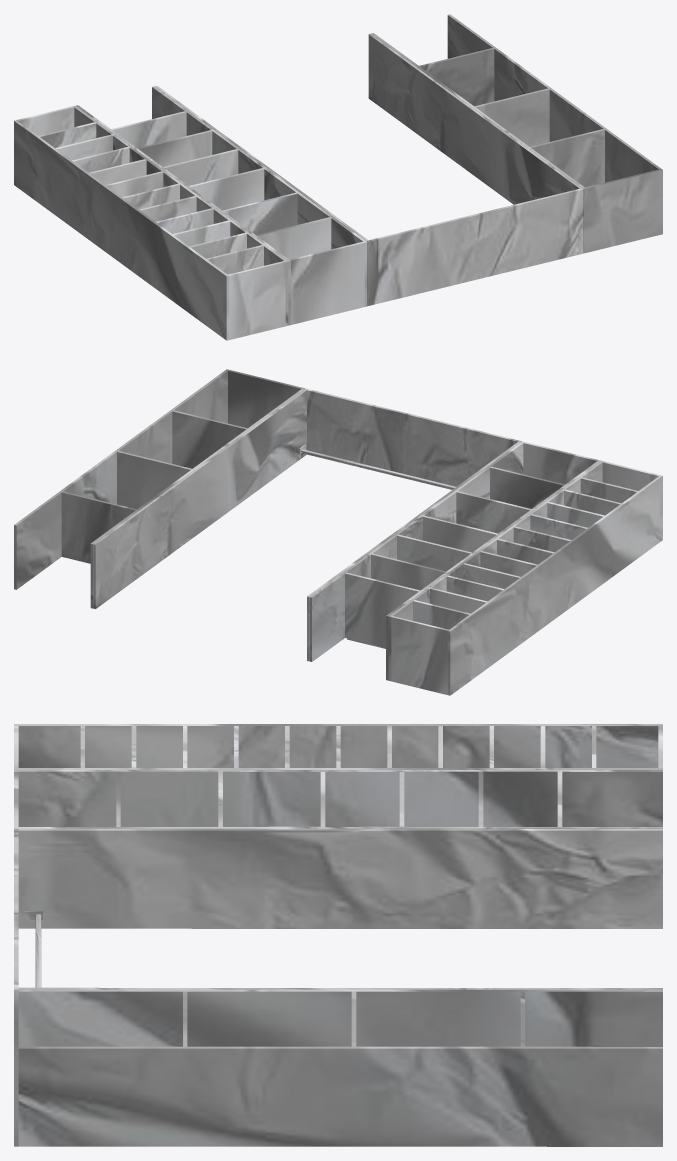
File: objj.obj
3 views of the same model, one above another, from view 1: azimuth 30°, elevation 25°; view 2: azimuth 150°, elevation 25°; view 3: azimuth 270°, elevation 25° (orthographic). The views are drawn at different scales.
Visible parts, largest first — view 1: closet_shelves; view 2: closet_shelves; view 3: closet_shelves.
Part boxes in pixels (x1,y1,x2,y2): closet_shelves: (14,14,662,340); closet_shelves: (14,369,662,695); closet_shelves: (14,724,662,1146).
Size of the model in its own units: 97.62 by 15.4 by 82.46.
Materials: 1 (1 with a texture image).
